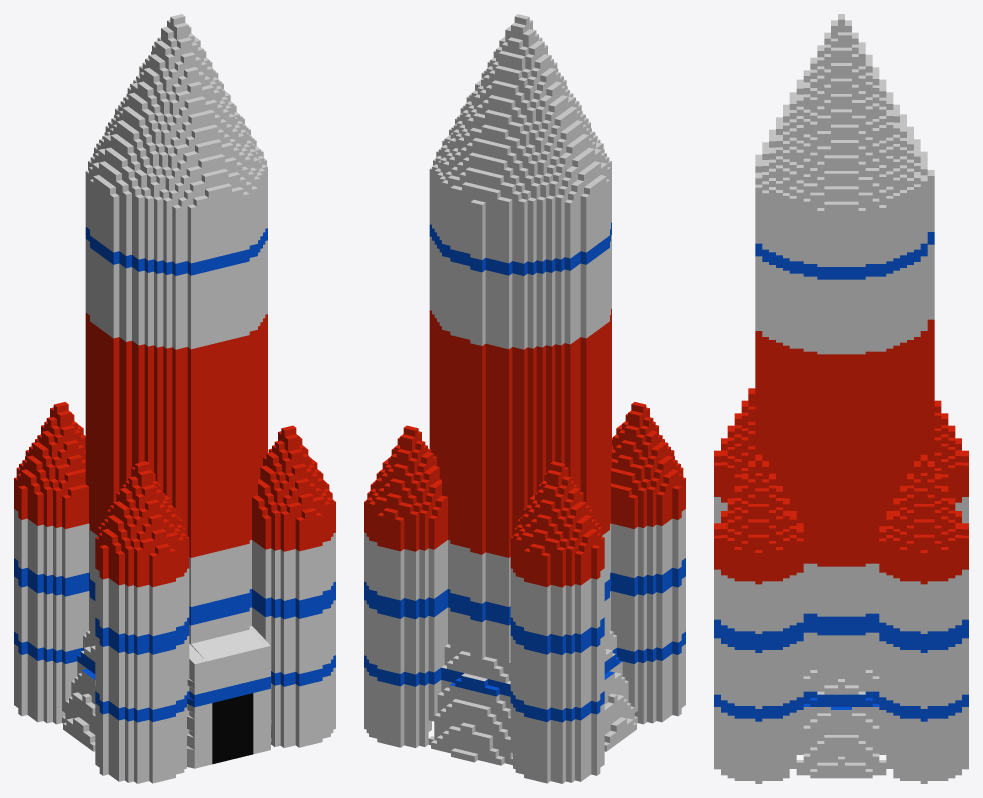
Rendered from Ship.glb.
3 renders of one model, left to right at view 1: azimuth 30°, elevation 25°; view 2: azimuth 150°, elevation 25°; view 3: azimuth 270°, elevation 25°, orthographic.
Parts seen in each view (by area): view 1: Cone; view 2: Cone; view 3: Cone.
Part boxes in pixels (x1=…): Cone: x1=14, y1=14, x2=335, y2=783; Cone: x1=364, y1=14, x2=685, y2=783; Cone: x1=714, y1=14, x2=968, y2=783.
Size of the model in its own units: 3 by 8.76 by 2.84.
